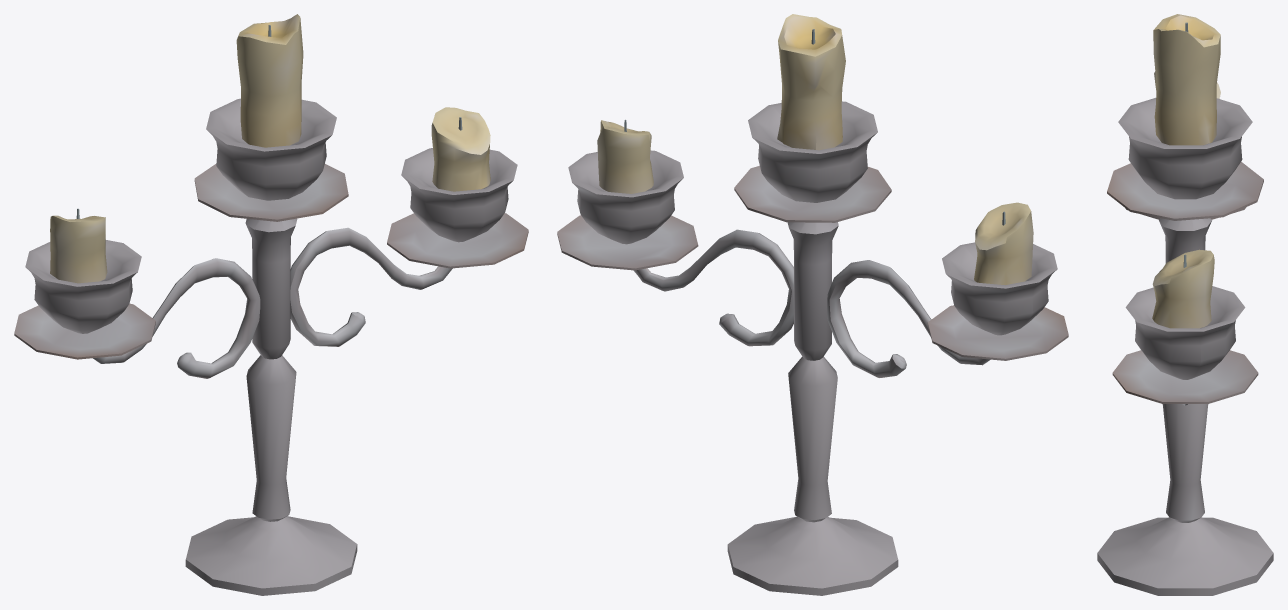
The model's file is CandleStick_Triple.glb.
3 views of the same model, side by side, from view 1: azimuth 30°, elevation 25°; view 2: azimuth 150°, elevation 25°; view 3: azimuth 270°, elevation 25° (orthographic).
Parts seen in each view (by area): view 1: CandleStick_Triple_356f68, CandleStick_Triple_a11b5f; view 2: CandleStick_Triple_356f68, CandleStick_Triple_a11b5f; view 3: CandleStick_Triple_356f68, CandleStick_Triple_a11b5f.
Part boxes in pixels (x1,y1,x2,y2): CandleStick_Triple_356f68: (14, 98, 528, 595); CandleStick_Triple_a11b5f: (50, 14, 490, 283); CandleStick_Triple_356f68: (557, 101, 1068, 595); CandleStick_Triple_a11b5f: (597, 14, 1033, 285); CandleStick_Triple_356f68: (1097, 97, 1273, 595); CandleStick_Triple_a11b5f: (1152, 14, 1220, 328).
Size of the model in its own units: 0.4423 by 0.4633 by 0.1364.
